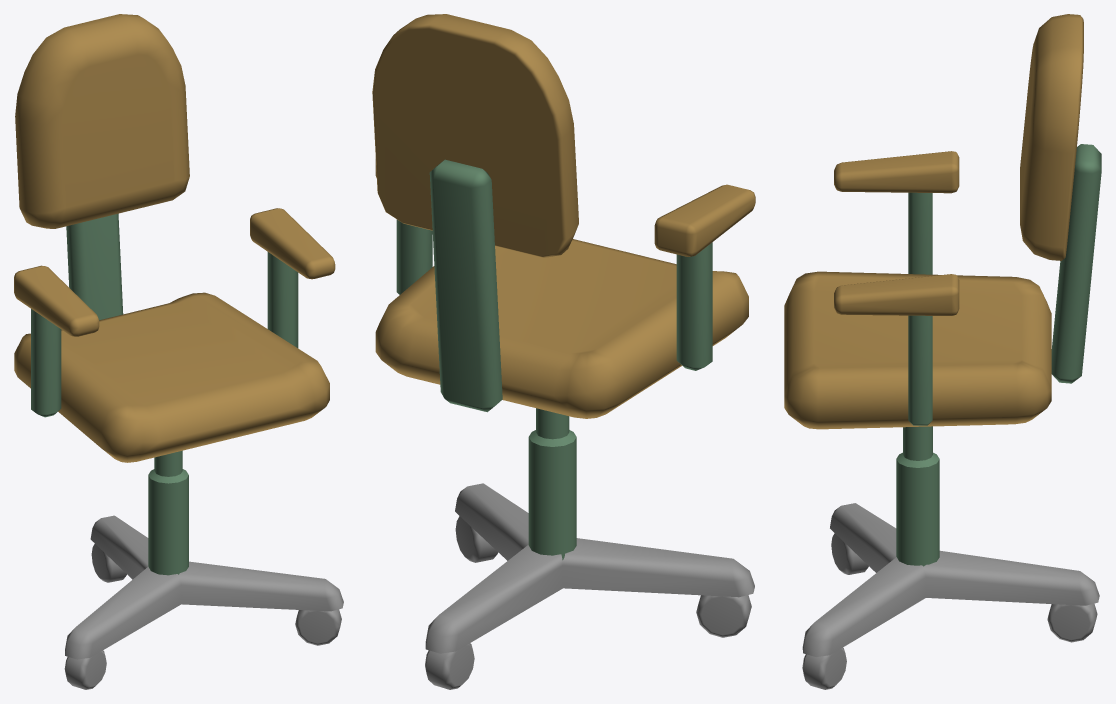
The model's file is chair_wheel.fbx.
3 views of the same model, side by side, from view 1: azimuth 30°, elevation 25°; view 2: azimuth 150°, elevation 25°; view 3: azimuth 270°, elevation 25° (orthographic). The views are drawn at different scales.
Visible parts, largest first — view 1: Cube.005; view 2: Cube.005; view 3: Cube.005.
Boxes of the visible parts, box(x1,y1,x2,y2) form: Cube.005: box(14, 14, 343, 689); Cube.005: box(372, 14, 755, 689); Cube.005: box(784, 14, 1101, 689).
Bounding box in the file's own units: 56.1 × 111 × 53.34.
